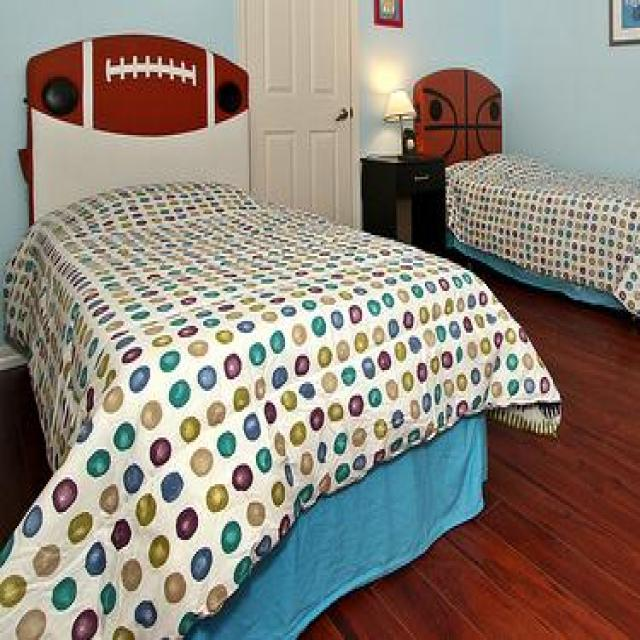bed: (0, 32, 561, 637), (412, 65, 638, 321)
